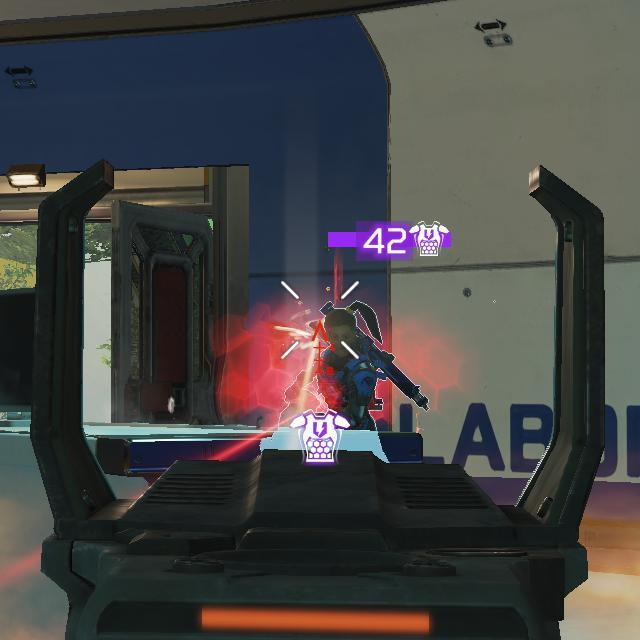avatar: (317, 301, 390, 429)
